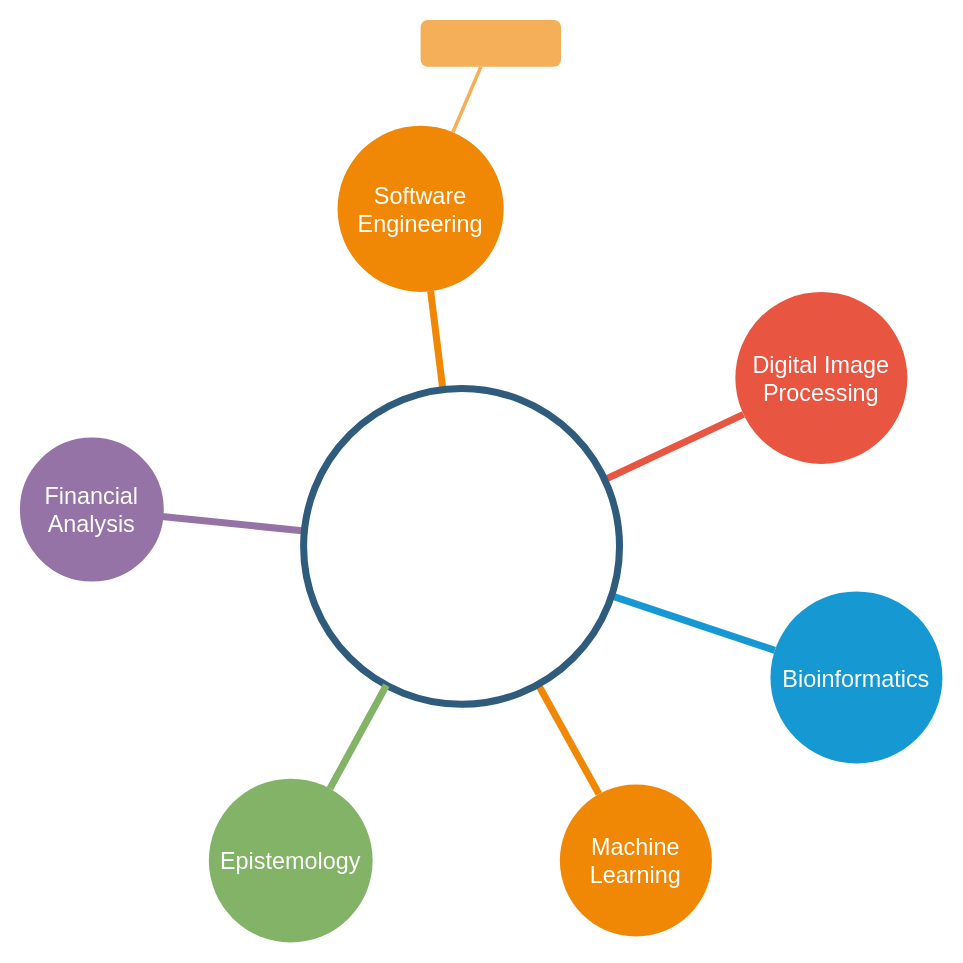
The diagram is 963 pixels wide and 963 high, and some of its shapes have lost their labels. Each missing label, with the centre of its shape:
"Reports" belongs at point (461, 545).
"Requirements" belongs at point (490, 42).
